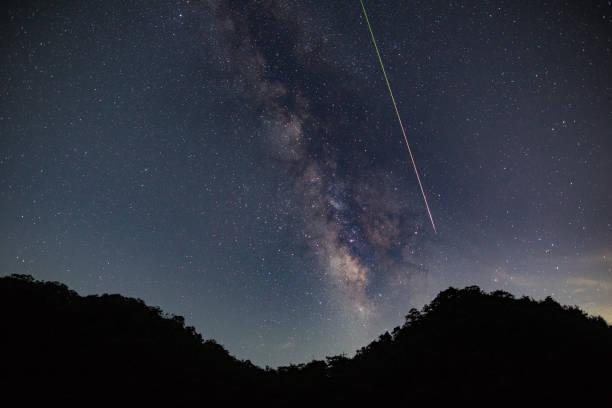meteor: (428, 225, 446, 237)
